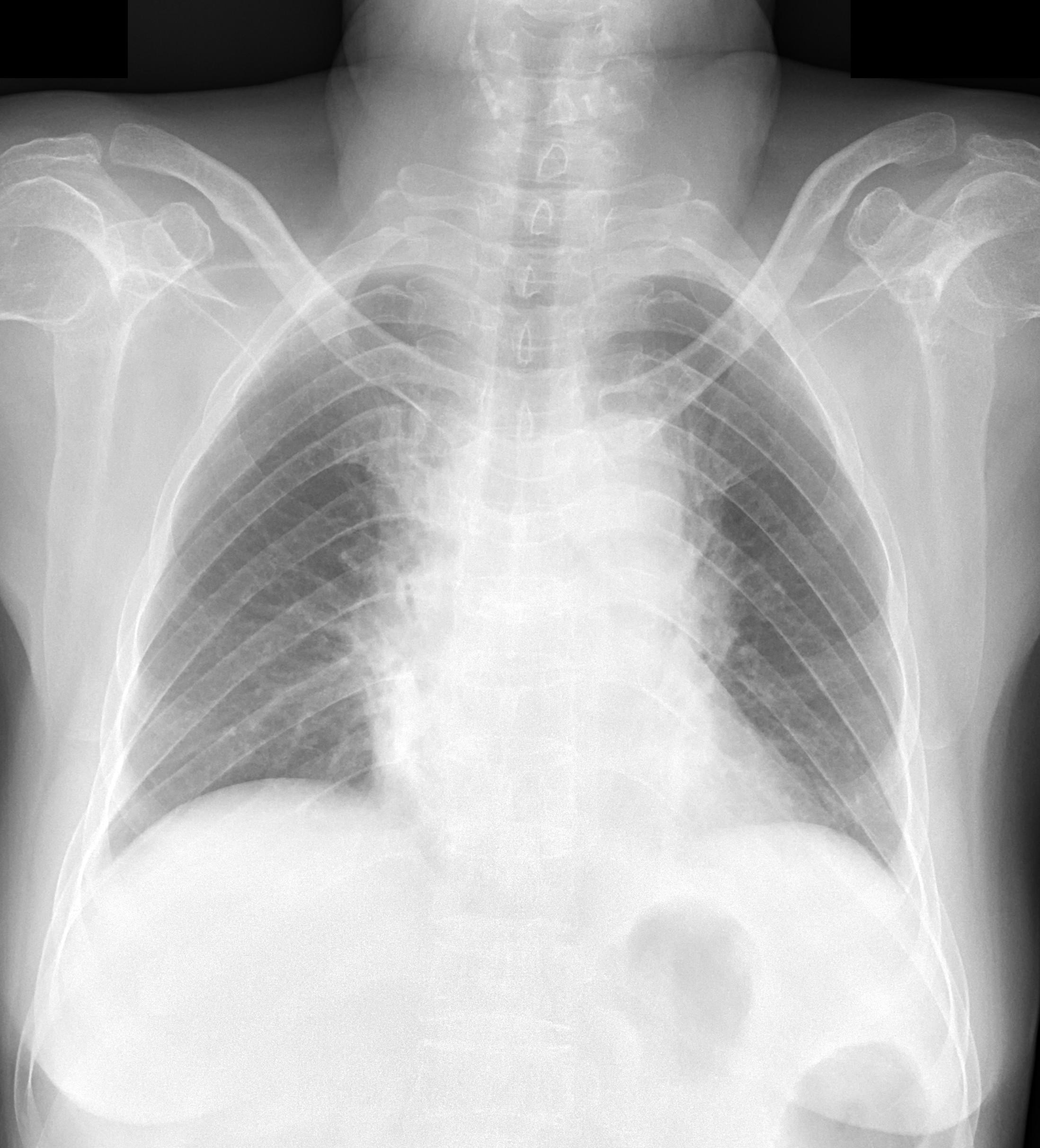Aortic enlargement: (378, 415, 692, 637)
